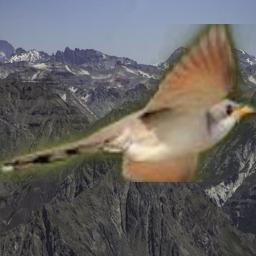Cuckoo: (0, 24, 256, 182)
